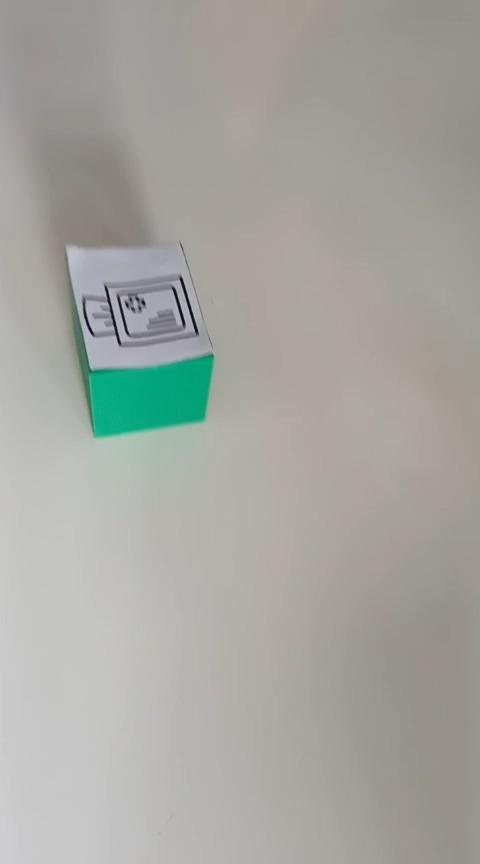Gauze: (63, 239, 215, 438)
